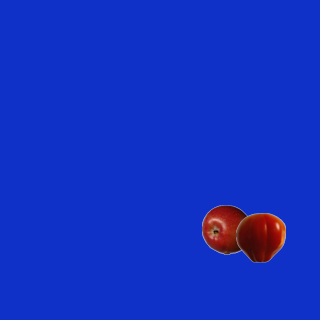Apple Braeburn: (201, 204, 251, 254)
Tomato 1: (235, 212, 285, 262)
